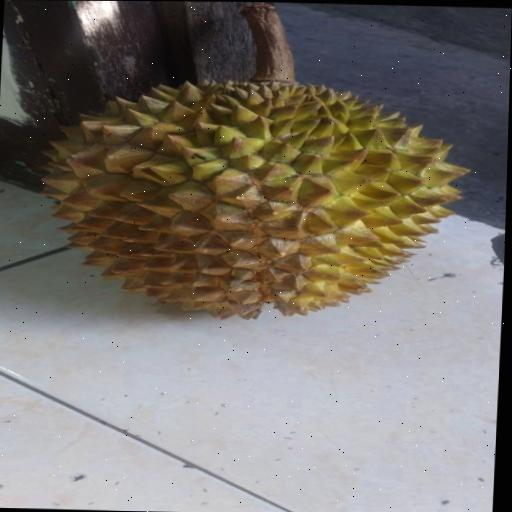rot: (20, 0, 491, 347)
